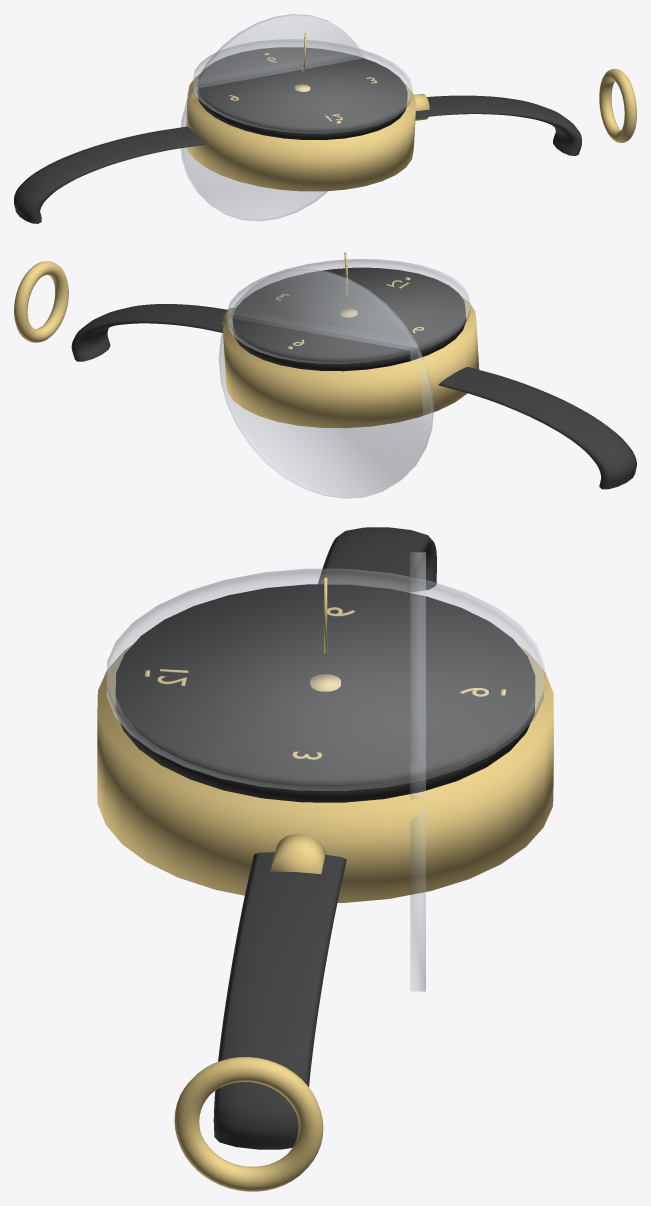
The model's file is wristwatch_ar_classic_blue_crown_pivot.glb.
3 renders of one model, top to bottom at view 1: azimuth 30°, elevation 25°; view 2: azimuth 150°, elevation 25°; view 3: azimuth 270°, elevation 25°, orthographic. The views are drawn at different scales.
Parts seen in each view (by area): view 1: Watch_Dial, Watch_Glass.001, Watch_Case, Watch_Glass, Band_Left, Band_Right, Watch_Buckle; view 2: Watch_Glass, Watch_Dial, Watch_Case, Watch_Glass.001, Band_Left, Band_Right, Watch_Buckle; view 3: Watch_Glass.001, Watch_Dial, Watch_Case, Band_Right, Watch_Buckle, Watch_Glass, Band_Left, Watch_Crown.
Boxes of the visible parts, x1,y1,x2,y2 form: Watch_Dial: [197, 47, 407, 139]; Watch_Glass.001: [193, 39, 412, 133]; Watch_Case: [186, 73, 416, 191]; Watch_Glass: [180, 14, 365, 221]; Band_Left: [14, 126, 205, 223]; Band_Right: [415, 95, 581, 155]; Watch_Buckle: [599, 68, 636, 142]; Watch_Glass: [218, 268, 433, 498]; Watch_Dial: [232, 267, 466, 371]; Watch_Case: [223, 295, 479, 428]; Watch_Glass.001: [227, 259, 470, 363]; Band_Left: [438, 367, 636, 489]; Band_Right: [71, 304, 227, 361]; Watch_Buckle: [14, 261, 68, 342]; Watch_Glass.001: [106, 568, 544, 790]; Watch_Dial: [115, 584, 535, 802]; Watch_Case: [97, 645, 553, 902]; Band_Right: [213, 852, 346, 1149]; Watch_Buckle: [174, 1057, 323, 1191]; Watch_Glass: [410, 552, 425, 991]; Band_Left: [318, 527, 436, 592]; Watch_Crown: [270, 834, 326, 874].
Size of the model in its own units: 0.1272 by 0.0423 by 0.0438.
